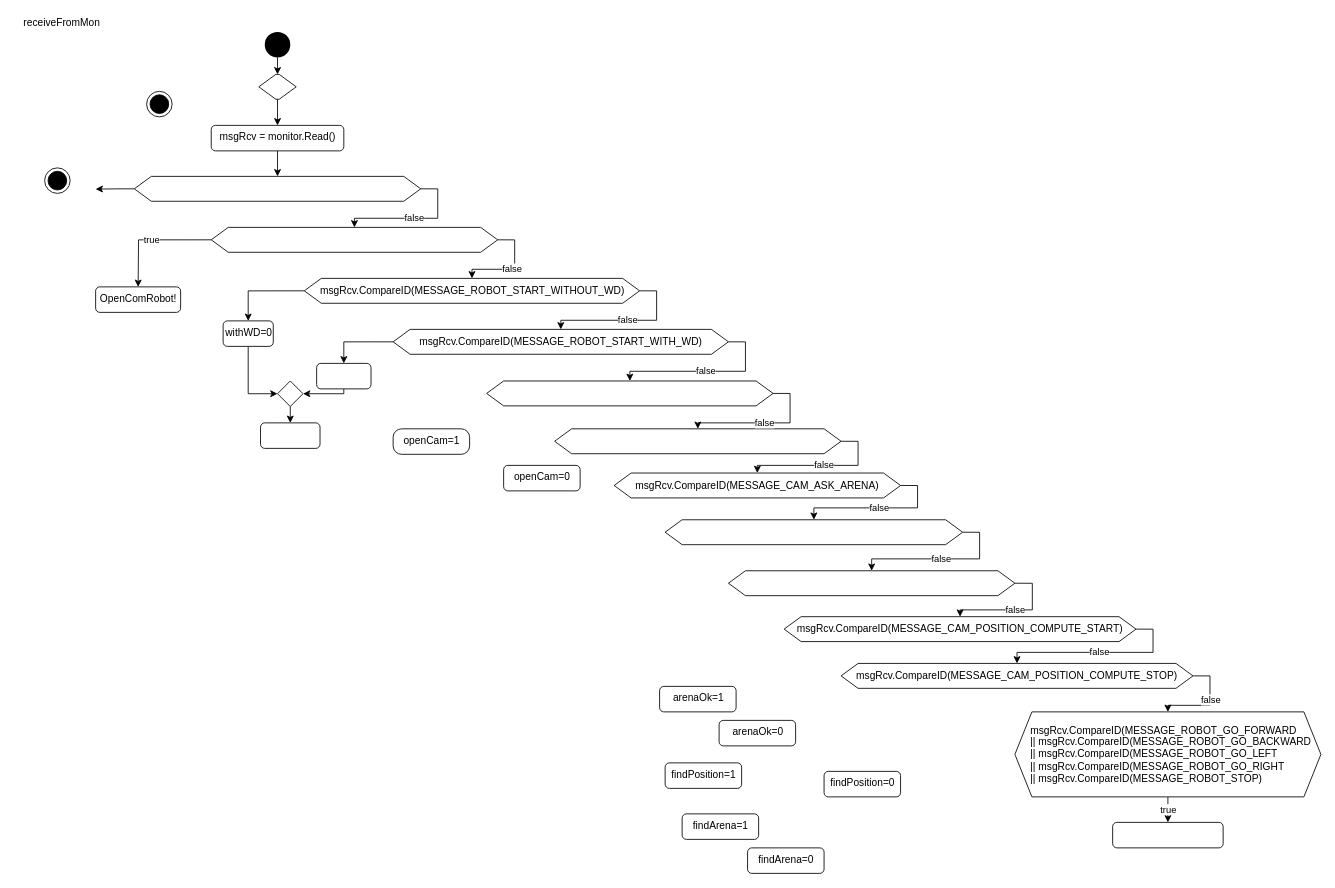
Image size: 1335x888. Some labels were removed from this diagram. The centre of each missing label's shape, as x and y in pixels:
"move = msg.GetID()" belongs at pixel 1167 835.
"msgRcv.CompareID(MESSAGE_CAM_ARENA_CONFIRM)" belongs at pixel 813 532.
"msgRcv.CompareID(MESSAGE_CAM_ARENA_INFIRM)" belongs at pixel 871 583.
"msgRcv.CompareID(MESSAGE_CAM_CLOSE)" belongs at pixel 697 441.
"msgRcv.CompareID(MESSAGE_CAM_OPEN)" belongs at pixel 629 393.
"msgRcv.CompareID(MESSAGE_MONITOR_LOST)" belongs at pixel 277 188.
"msgRcv.CompareID(MESSAGE_ROBOT_COM_OPEN)" belongs at pixel 354 239.
"startRobot!" belongs at pixel 290 435.
"withWD=1" belongs at pixel 343 376.
